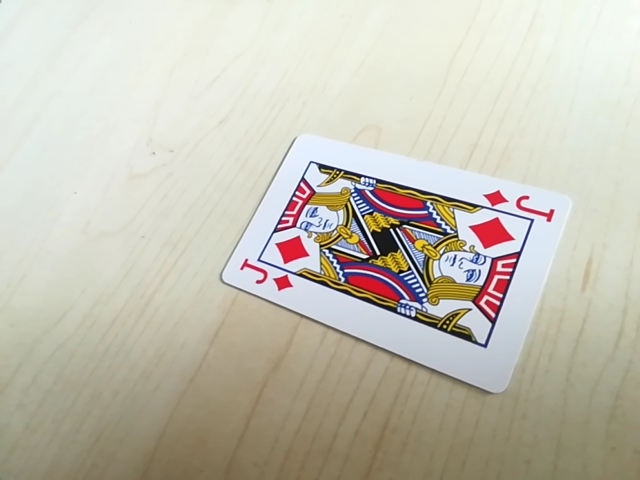fk j: (482, 187, 556, 218), (235, 262, 298, 297)
